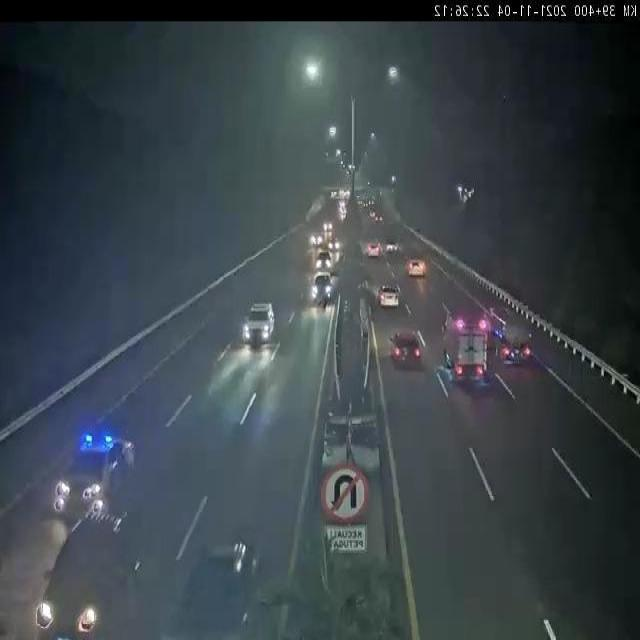Car: (34, 508, 146, 640), (163, 537, 262, 640), (54, 432, 136, 511), (242, 301, 276, 346), (389, 329, 422, 365), (311, 272, 334, 302), (378, 284, 401, 308), (407, 260, 426, 277), (315, 252, 332, 268), (367, 240, 380, 257), (327, 236, 340, 252)
Truck: (440, 301, 490, 388), (486, 306, 532, 366)
